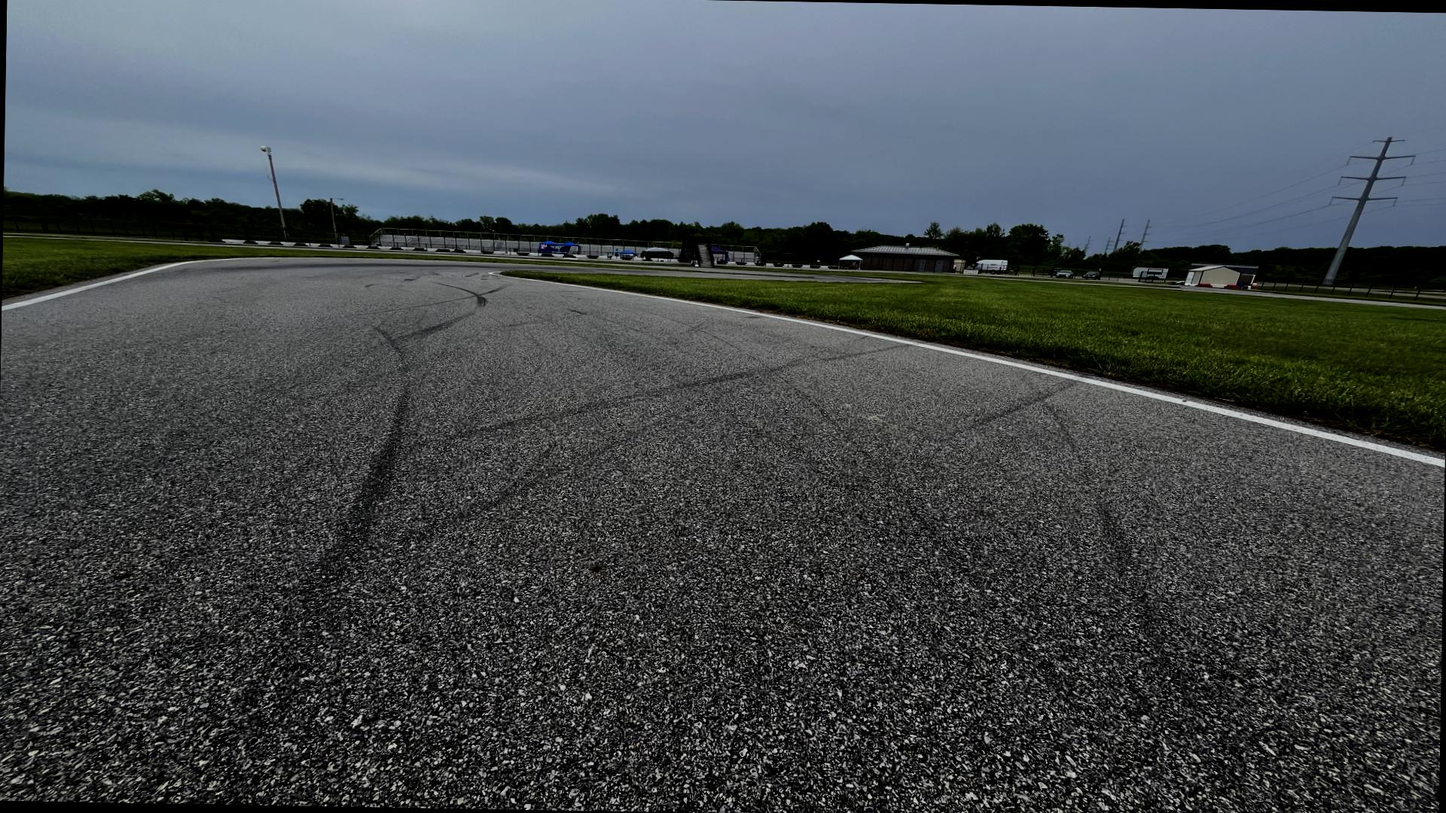white-line: (487, 272, 1444, 470), (2, 257, 531, 311)
